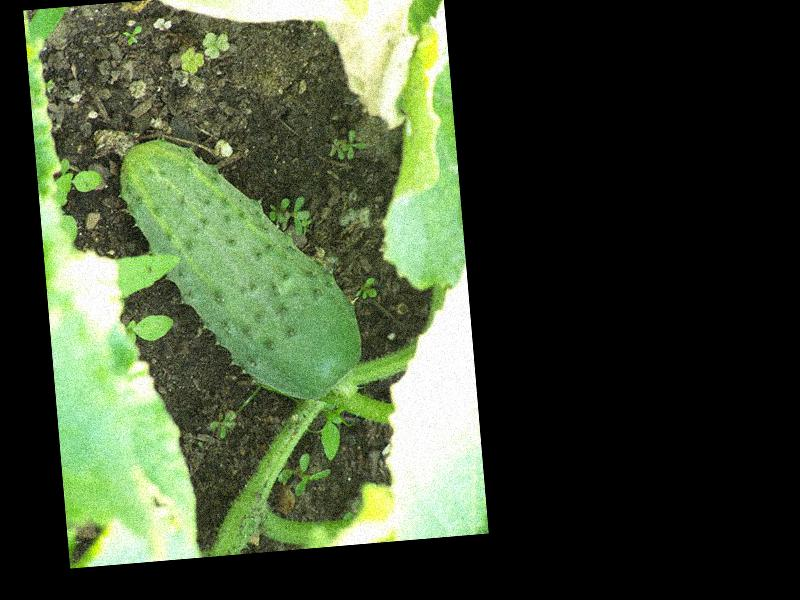Cucumber: (117, 124, 366, 415)
